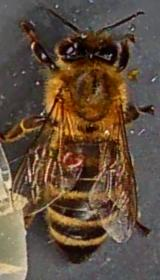varroa_mite: (58, 143, 85, 175)
